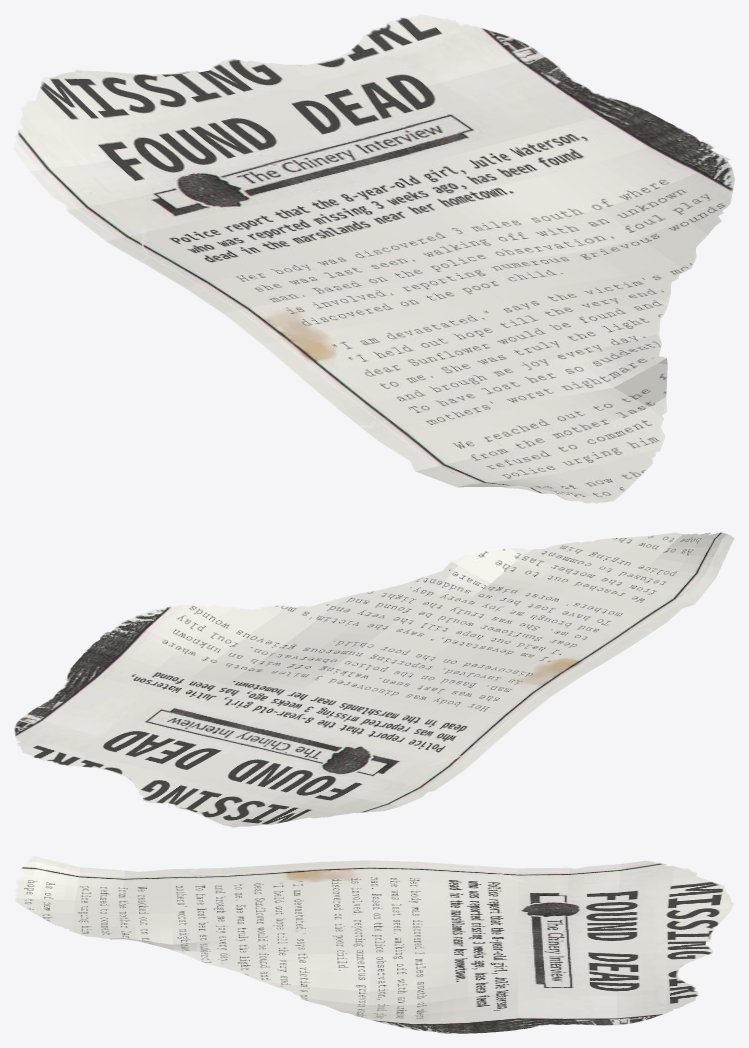
File: newspaper1.fbx
3 views of the same model, one above another, from view 1: azimuth 30°, elevation 25°; view 2: azimuth 150°, elevation 25°; view 3: azimuth 270°, elevation 25° (orthographic). The views are drawn at different scales.
Visible parts, largest first — view 1: Newspaper1; view 2: Newspaper1; view 3: Newspaper1.
Part boxes in pixels (left/top/right/bottom): Newspaper1: left=14, top=14, right=734, bottom=503; Newspaper1: left=14, top=532, right=734, bottom=827; Newspaper1: left=14, top=856, right=734, bottom=1033.
Size of the model in its own units: 16.05 by 1.18 by 28.83.
